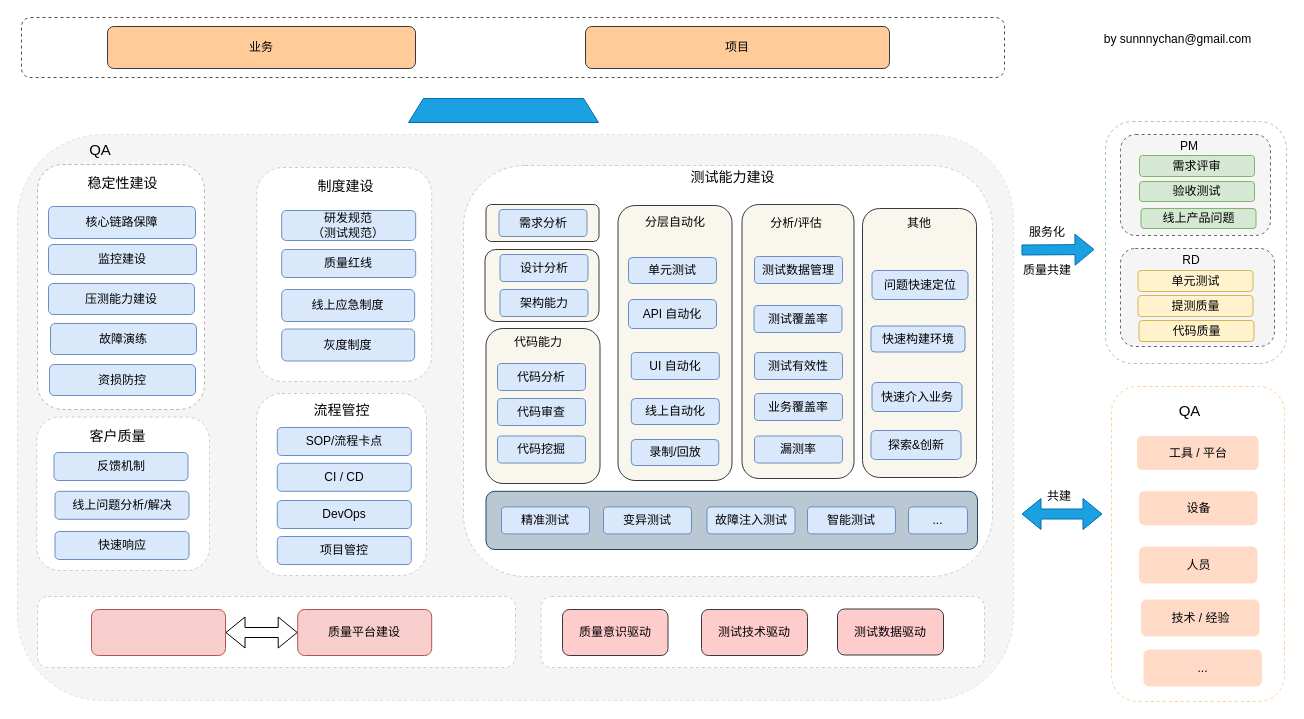
This 1304x719 diagram has some shape labels left out. The box of each missing label's shape, as (x1, y1, x2, y2) in pixels:
质量体系建设: (90, 608, 226, 656)
赋能业务: (408, 98, 598, 122)
